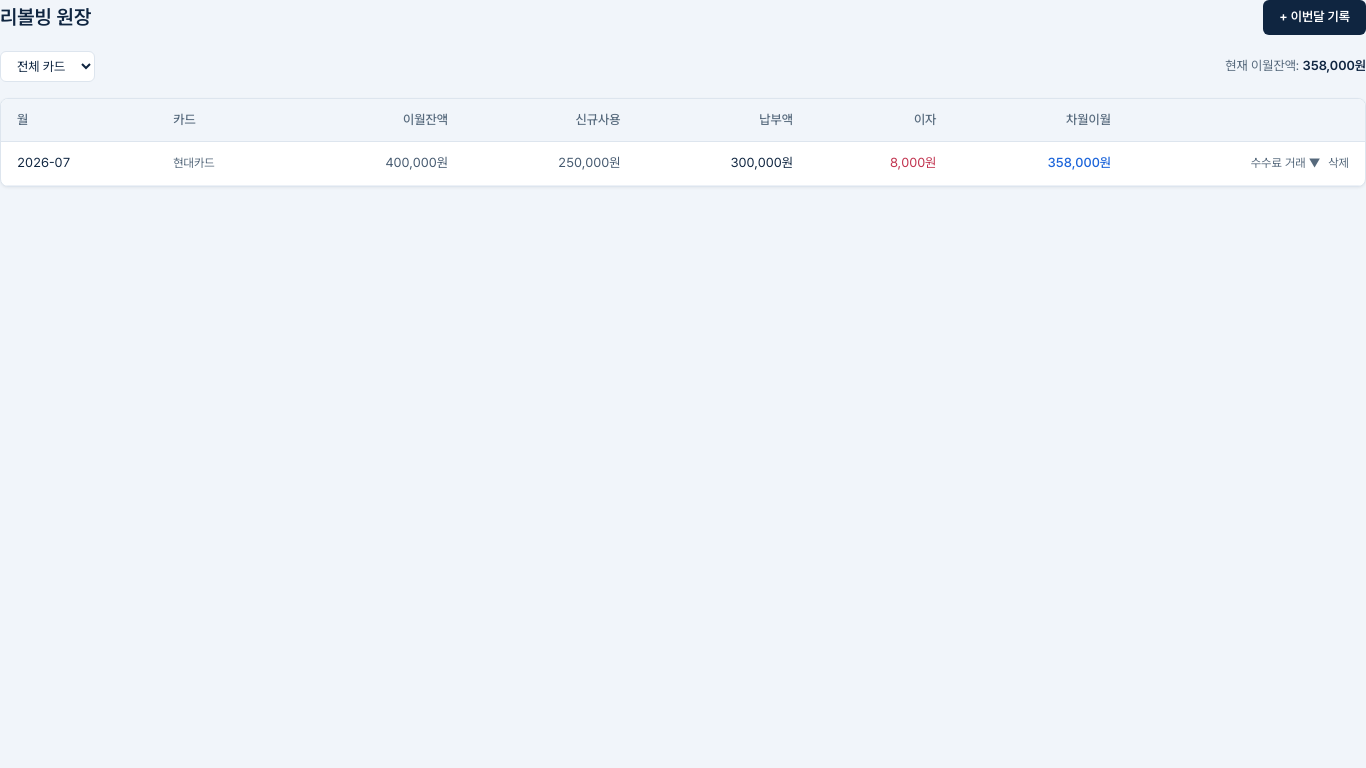
Test: 삭제 › 취소하면 삭제하지 않는다
The width and height of the screenshot is (1366, 768).
Click the button "삭제": (1339, 163) [1328,155,1349,171]
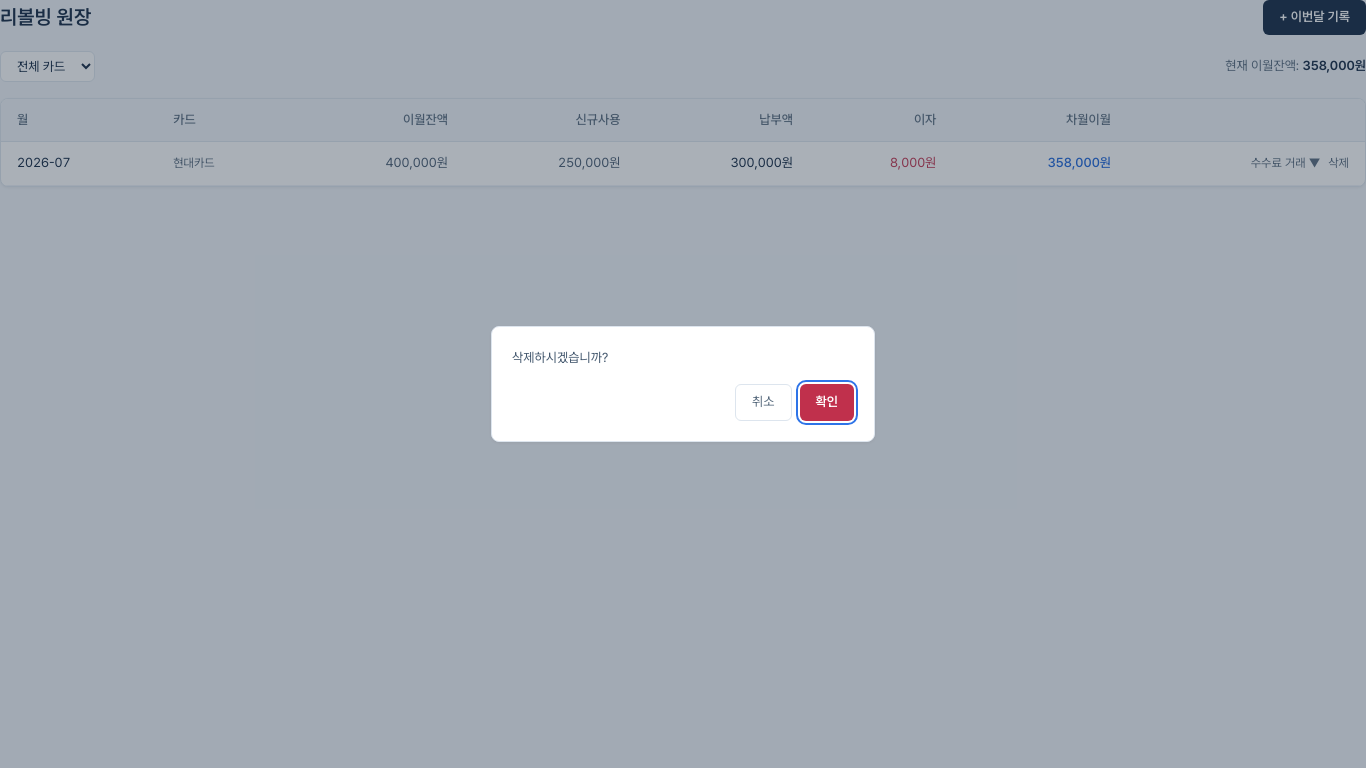
Click the button "취소": (763, 403) [735,384,792,421]
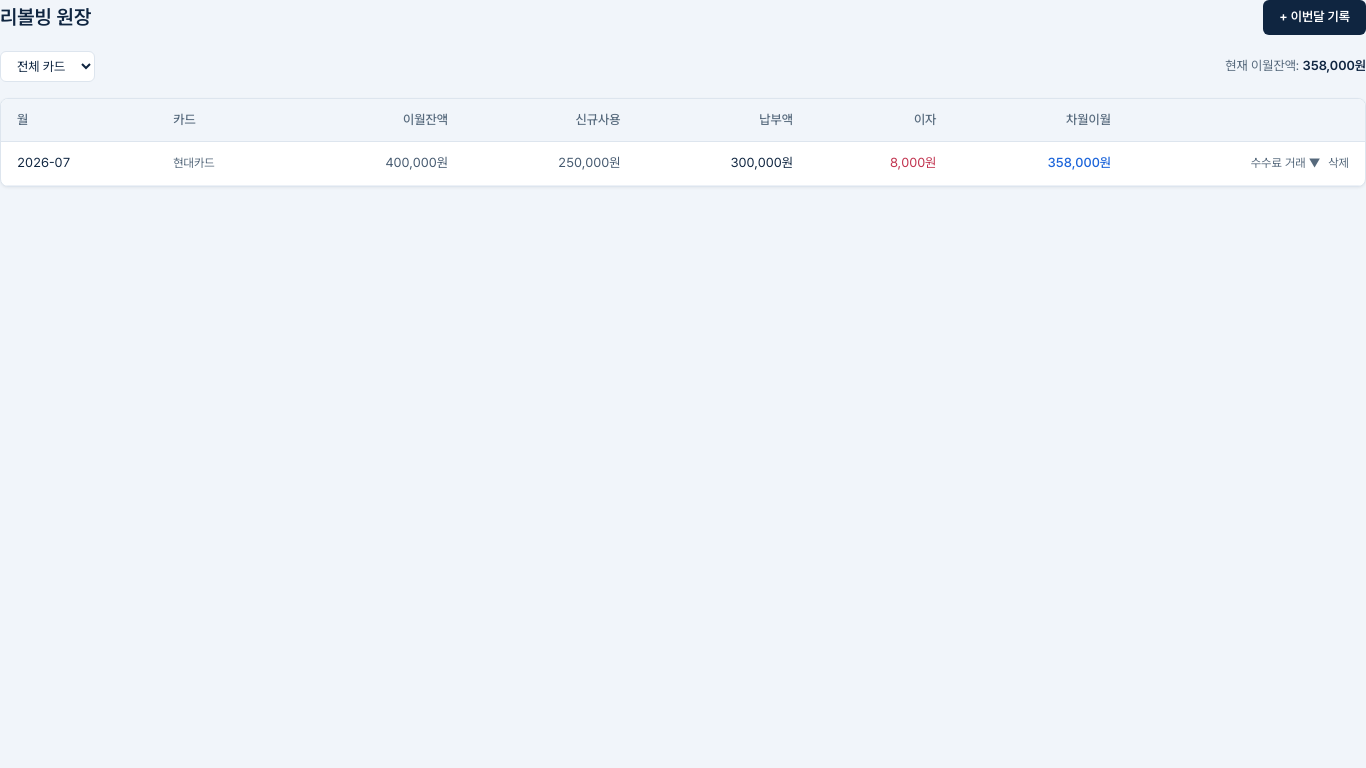
Expected: the dialog is gone
